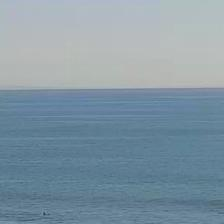surfer: (42, 210, 46, 216)
